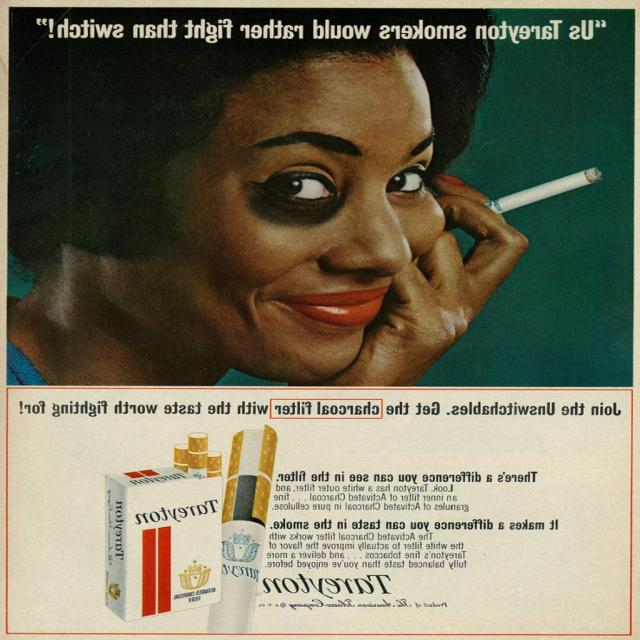smoking: (114, 49, 618, 372)
